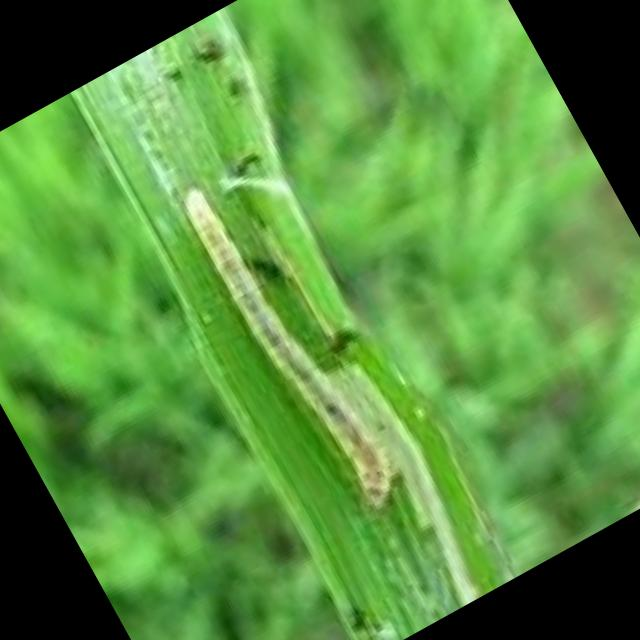leaf-folder: (164, 156, 416, 540)
